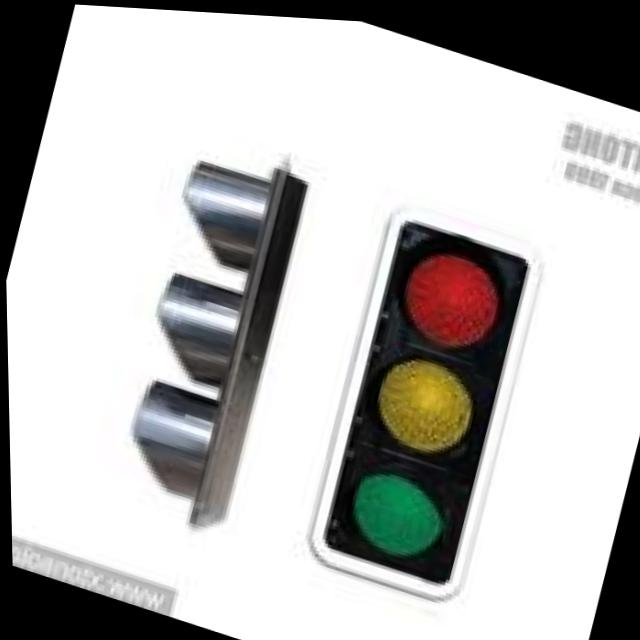green_light: (306, 380, 525, 623)
red_light: (346, 204, 569, 404)
yellow_light: (338, 325, 555, 503)
